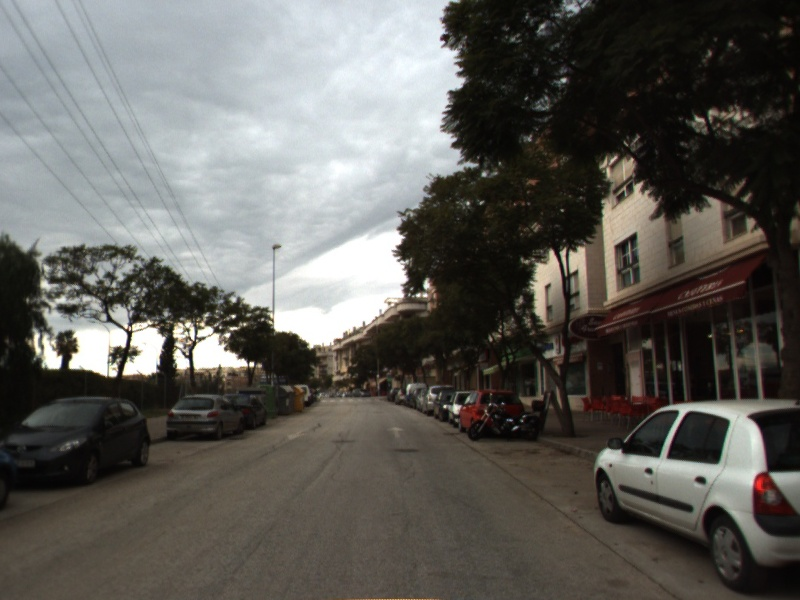STRAIGHT: (385, 424, 408, 439)
